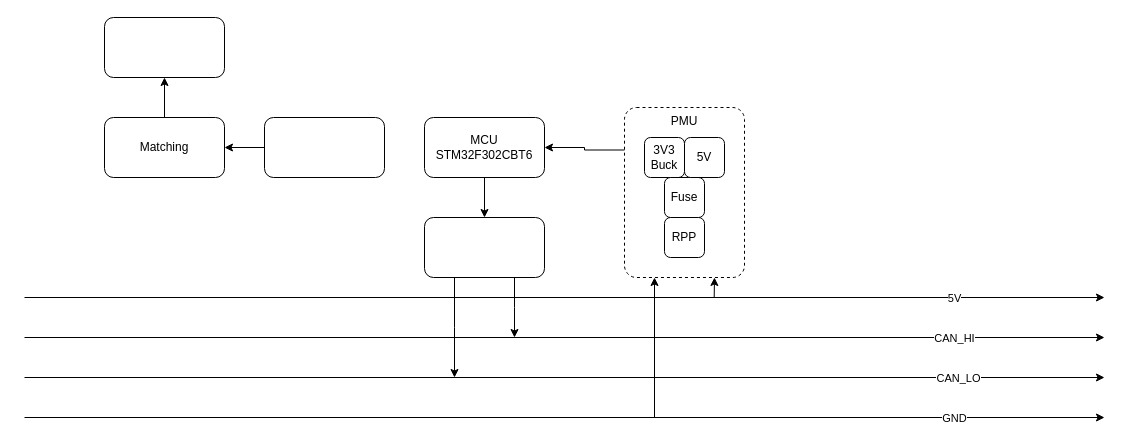
The diagram is 1130 pixels wide and 443 high, and some of its shapes have lost their labels. Each missing label, with the centre of its shape:
CAN: [484,247]
PCB Antenna: [164,47]
RFID TRF7964A: [324,147]
